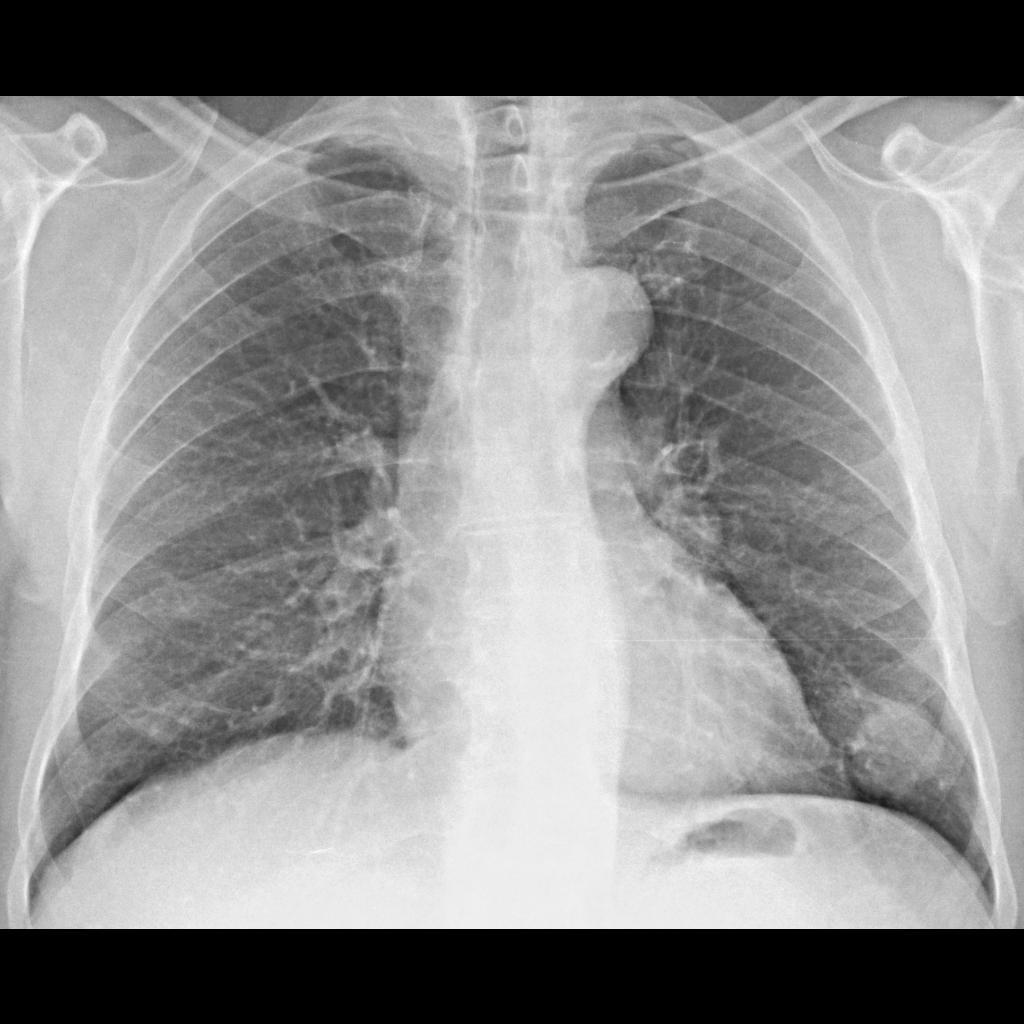Nodule: (834, 686, 956, 807)
